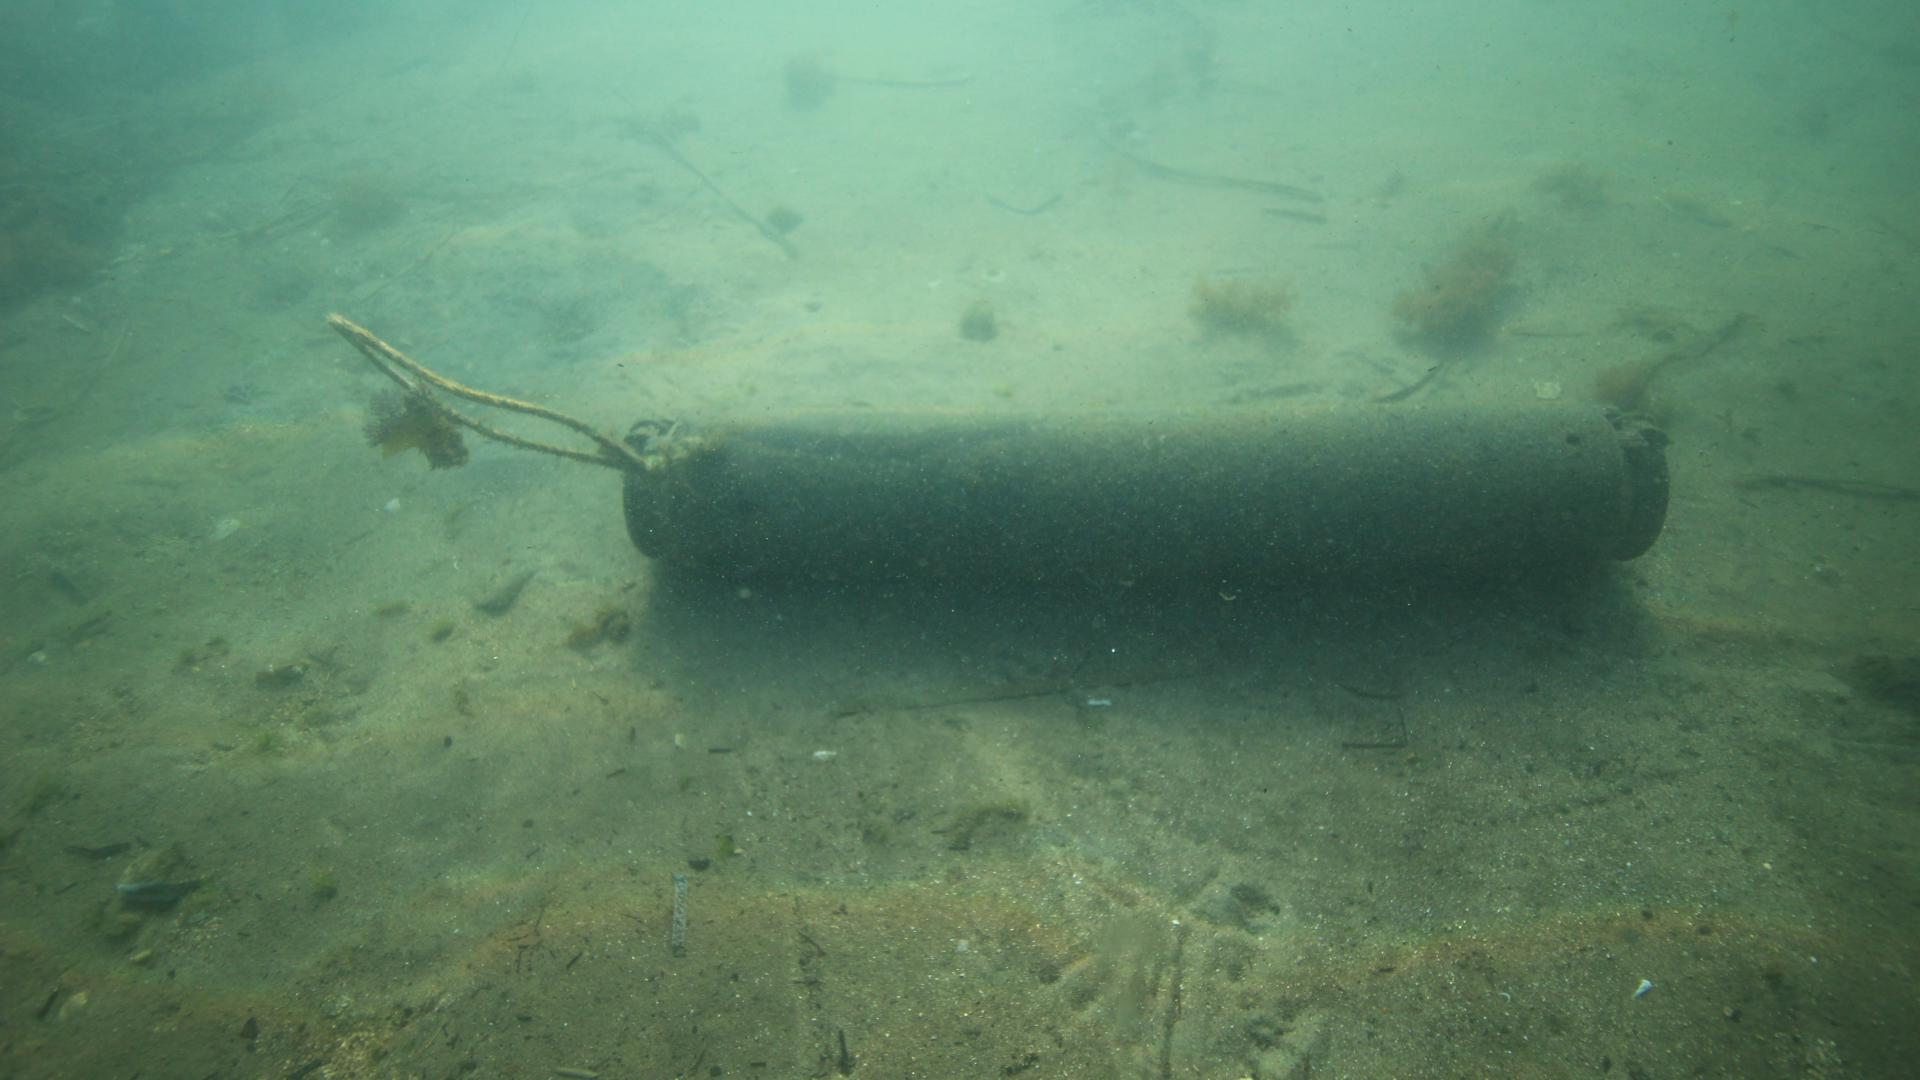bundle of ropes: (320, 295, 617, 460)
eel fish trap: (621, 396, 1683, 587)
